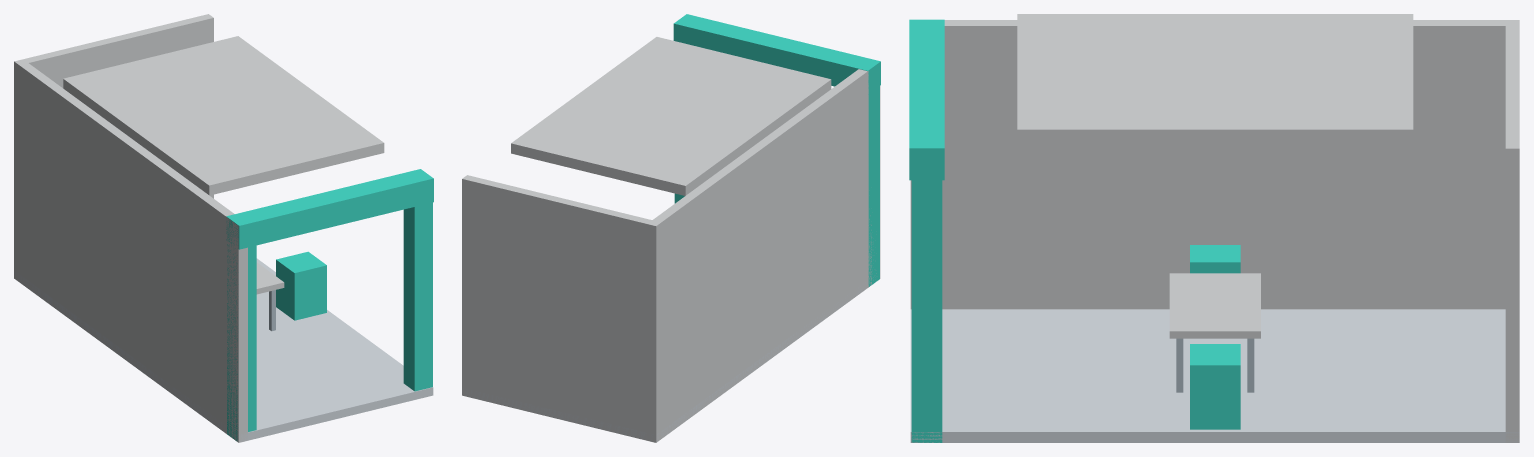
3 renders of one model, left to right at view 1: azimuth 30°, elevation 25°; view 2: azimuth 150°, elevation 25°; view 3: azimuth 270°, elevation 25°, orthographic. The views are drawn at different scales.
Parts seen in each view (by area): view 1: Exhibition Booth Concept; view 2: Exhibition Booth Concept; view 3: Exhibition Booth Concept.
Part boxes in pixels (x1,y1,x2,y2): Exhibition Booth Concept: (14, 14, 433, 442); Exhibition Booth Concept: (462, 14, 880, 442); Exhibition Booth Concept: (909, 14, 1519, 442).
Bounding box in the file's own units: 3 × 3.34 × 6.02.
